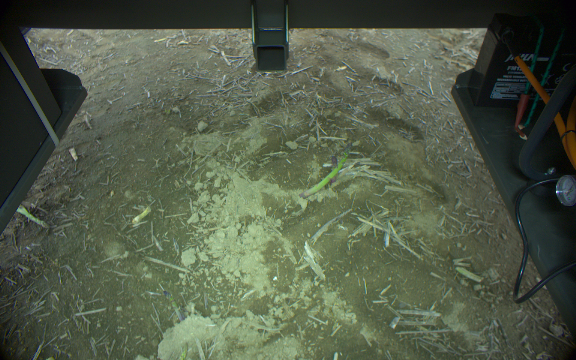aspa: (297, 142, 358, 200), (17, 207, 50, 230), (328, 152, 341, 188)
